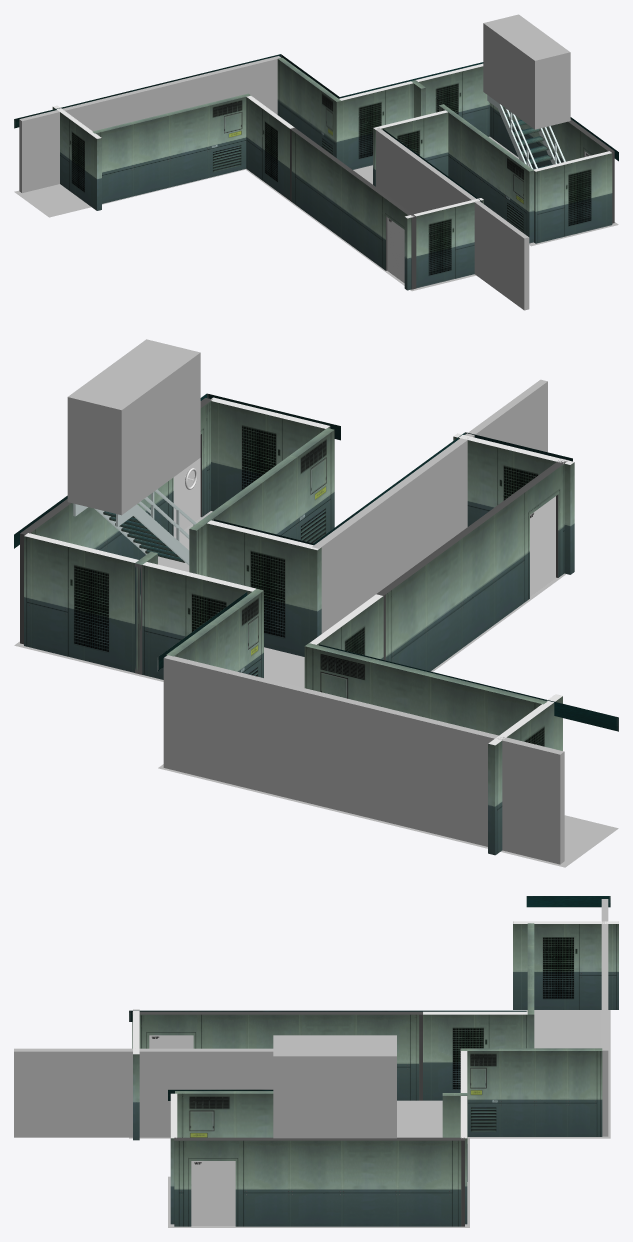
The model's file is Level_Model.fbx.
3 renders of one model, top to bottom at view 1: azimuth 30°, elevation 25°; view 2: azimuth 150°, elevation 25°; view 3: azimuth 270°, elevation 25°, orthographic. The views are drawn at different scales.
Visible parts, largest first — view 1: Medium_Wall_1, Large_Wall_2, Large_Wall, LargeWall_Door, Above_Layer, Medium_Wall, Small_Wall_2, Small_Wall_Back, Small_Wall_Back_2, Medium_Wall_1_2, Small_Wall_Back_1, Small_Wall (+9 smaller); view 2: Large_Wall_2, Above_Layer, LargeWall_Door, Large_Wall, Small_Wall_Back_3, Medium_Wall_1, Small_Wall_Back_1_2, Medium_Wall, Small_Wall_2, Small_Wall_Back_2, LargeWall_Door_2, Small_Wall_Back (+10 smaller); view 3: LargeWall_Door_2, Large_Wall, Above_Layer, Medium_Wall_1_2, LargeWall_Door, Small_Wall, Floor, Small_Wall_Back_1, Medium_Wall, Door_2, Ceiling, Large_Wall_2 (+6 smaller).
Boxes of the visible parts, x1=… form: Medium_Wall_1: x1=92, y1=93, x2=250, y2=203; Large_Wall_2: x1=19, y1=56, x2=280, y2=193; Large_Wall: x1=376, y1=127, x2=529, y2=310; LargeWall_Door: x1=290, y1=127, x2=416, y2=289; Above_Layer: x1=483, y1=14, x2=570, y2=129; Medium_Wall: x1=439, y1=104, x2=533, y2=243; Small_Wall_2: x1=533, y1=151, x2=612, y2=243; Small_Wall_Back: x1=404, y1=198, x2=483, y2=290; Small_Wall_Back_2: x1=337, y1=81, x2=413, y2=169; Medium_Wall_1_2: x1=277, y1=57, x2=340, y2=158; Small_Wall_Back_1: x1=246, y1=95, x2=294, y2=200; Small_Wall: x1=52, y1=105, x2=101, y2=210; Large_Wall_2: x1=163, y1=655, x2=564, y2=864; Above_Layer: x1=67, y1=339, x2=200, y2=515; LargeWall_Door: x1=376, y1=458, x2=568, y2=671; Large_Wall: x1=312, y1=379, x2=547, y2=633; Small_Wall_Back_3: x1=24, y1=533, x2=138, y2=672; Medium_Wall_1: x1=304, y1=643, x2=547, y2=735; Small_Wall_Back_1_2: x1=206, y1=520, x2=321, y2=656; Medium_Wall: x1=189, y1=428, x2=334, y2=576; Small_Wall_2: x1=211, y1=397, x2=330, y2=511; Small_Wall_Back_2: x1=142, y1=562, x2=255, y2=679; LargeWall_Door_2: x1=20, y1=398, x2=212, y2=644; Small_Wall_Back: x1=453, y1=433, x2=574, y2=574; LargeWall_Door_2: x1=174, y1=1137, x2=464, y2=1226; Large_Wall: x1=14, y1=1048, x2=273, y2=1137; Above_Layer: x1=273, y1=1035, x2=396, y2=1138; Medium_Wall_1_2: x1=461, y1=1048, x2=602, y2=1136; LargeWall_Door: x1=132, y1=1011, x2=422, y2=1100; Small_Wall: x1=513, y1=921, x2=618, y2=1009; Floor: x1=129, y1=1010, x2=610, y2=1227; Small_Wall_Back_1: x1=423, y1=1011, x2=527, y2=1100; Medium_Wall: x1=175, y1=1091, x2=273, y2=1137; Door_2: x1=191, y1=1161, x2=235, y2=1225; Ceiling: x1=129, y1=896, x2=610, y2=1100; Large_Wall_2: x1=601, y1=899, x2=608, y2=1136.
Size of the model in its own units: 56.19 by 18.1 by 58.64.
